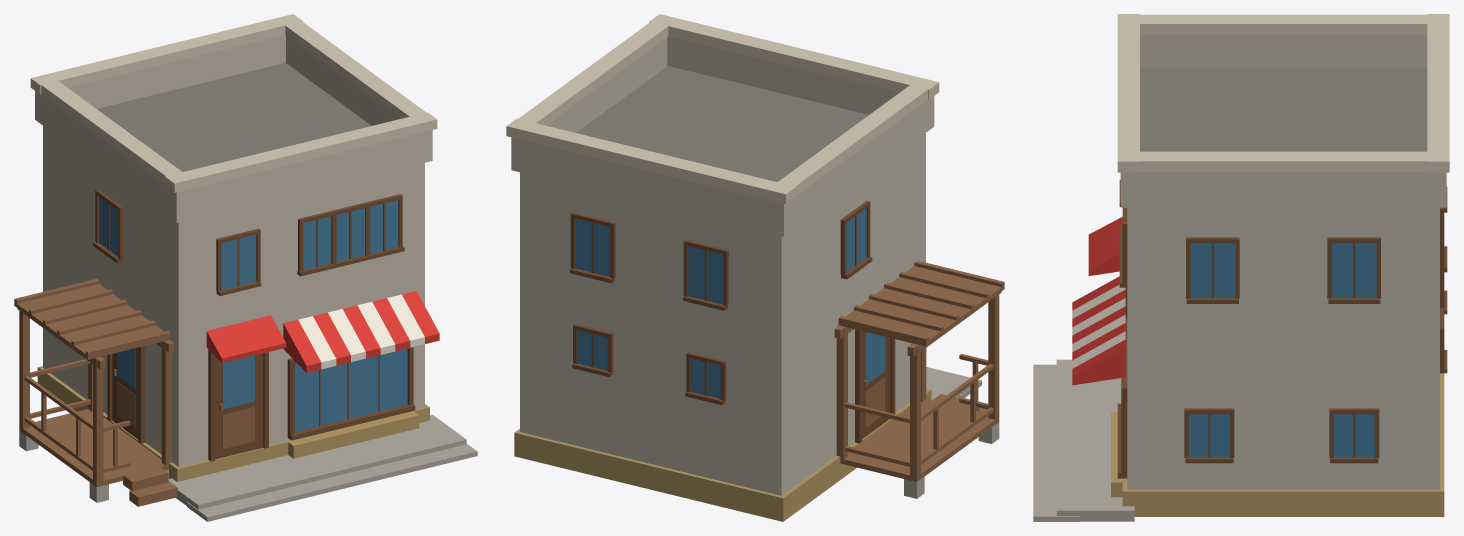
The model's file is shop_storefront.fbx.
3 renders of one model, left to right at view 1: azimuth 30°, elevation 25°; view 2: azimuth 150°, elevation 25°; view 3: azimuth 270°, elevation 25°, orthographic. The views are drawn at different scales.
Visible parts, largest first — view 1: Pavement_Front_Step; view 2: Pavement_Front_Step; view 3: Pavement_Front_Step.
Part boxes in pixels (left/top/right/bottom): Pavement_Front_Step: left=14, top=14, right=477, bottom=521; Pavement_Front_Step: left=506, top=14, right=1004, bottom=521; Pavement_Front_Step: left=1033, top=14, right=1449, bottom=521.
Size of the model in its own units: 608 by 531 by 559.
